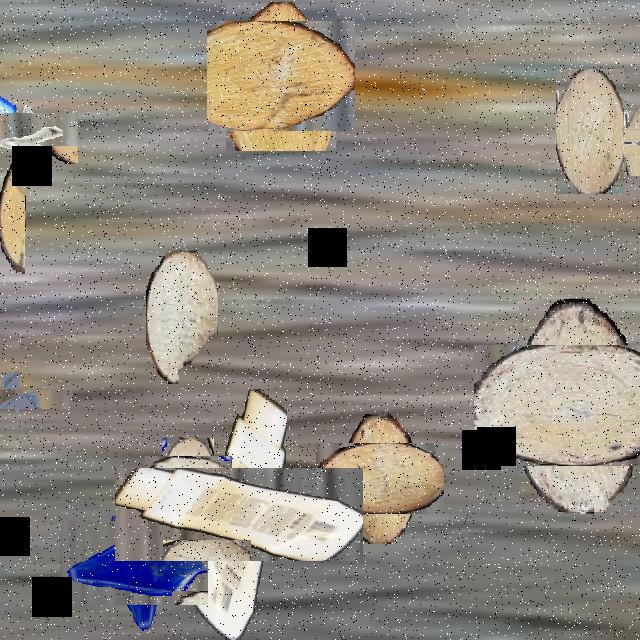glass: (76, 505, 192, 622), (0, 363, 46, 436), (0, 64, 16, 188)
metal: (0, 102, 68, 174), (600, 117, 640, 166)
plastic: (153, 428, 324, 600)
wood: (496, 321, 640, 489), (216, 12, 346, 141), (330, 428, 430, 528), (146, 251, 218, 382), (556, 69, 624, 194), (153, 447, 223, 517), (0, 151, 25, 276)
